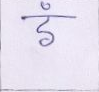anusvara: (41, 3, 50, 10)
